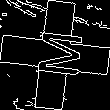M_W: (27, 29, 83, 81)
